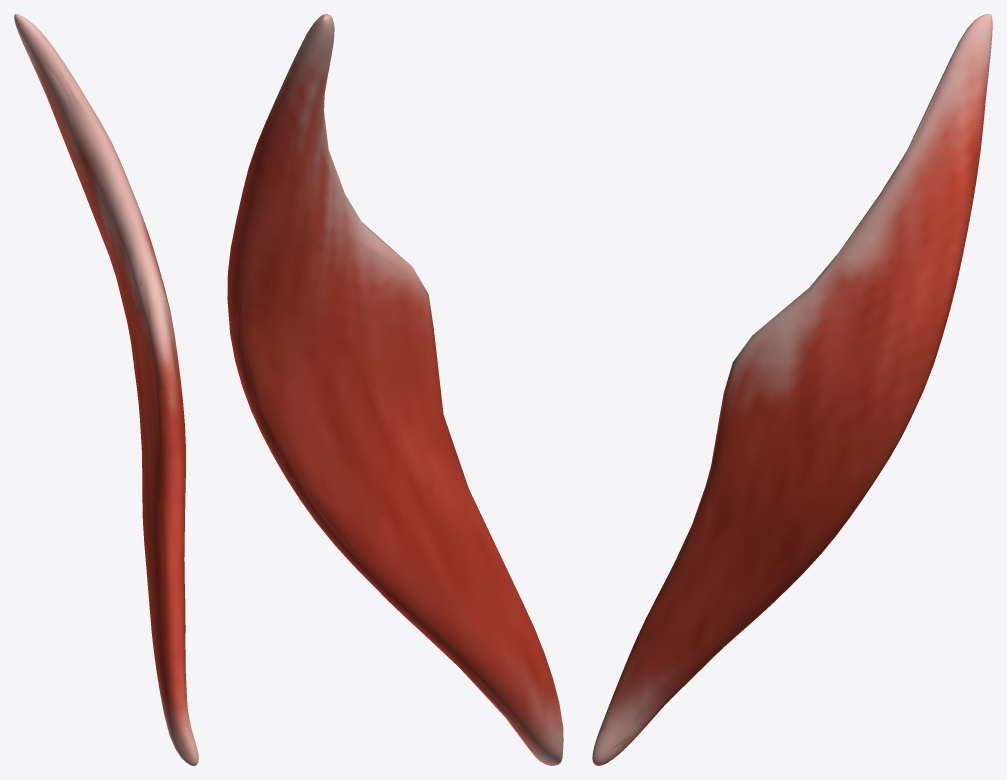
File: L Teres Major.fbx
3 views of the same model, side by side, from view 1: azimuth 30°, elevation 25°; view 2: azimuth 150°, elevation 25°; view 3: azimuth 270°, elevation 25° (orthographic). The views are drawn at different scales.
Visible parts, largest first — view 1: L Teres Major, L Teres Major low; view 2: L Teres Major, L Teres Major low; view 3: L Teres Major, L Teres Major low.
Part boxes in pixels (box(x1,y1,x2,y2)): L Teres Major: box(14, 14, 198, 765); L Teres Major low: box(26, 24, 192, 743); L Teres Major: box(227, 14, 563, 765); L Teres Major low: box(232, 48, 559, 761); L Teres Major: box(592, 14, 992, 765); L Teres Major low: box(598, 23, 972, 762).
Bounding box in the file's own units: 7.09 × 44.08 × 21.47.
